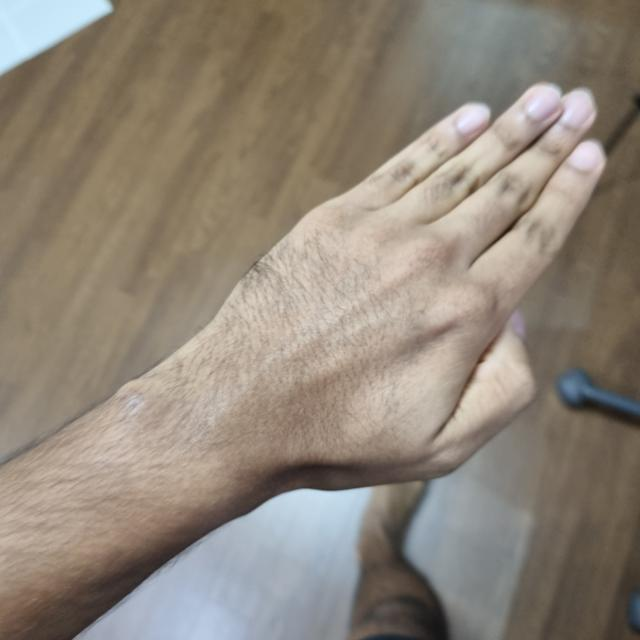Paper: (186, 82, 603, 486)
